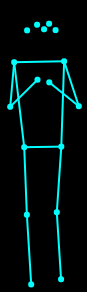mountain: (7, 16, 83, 289)
